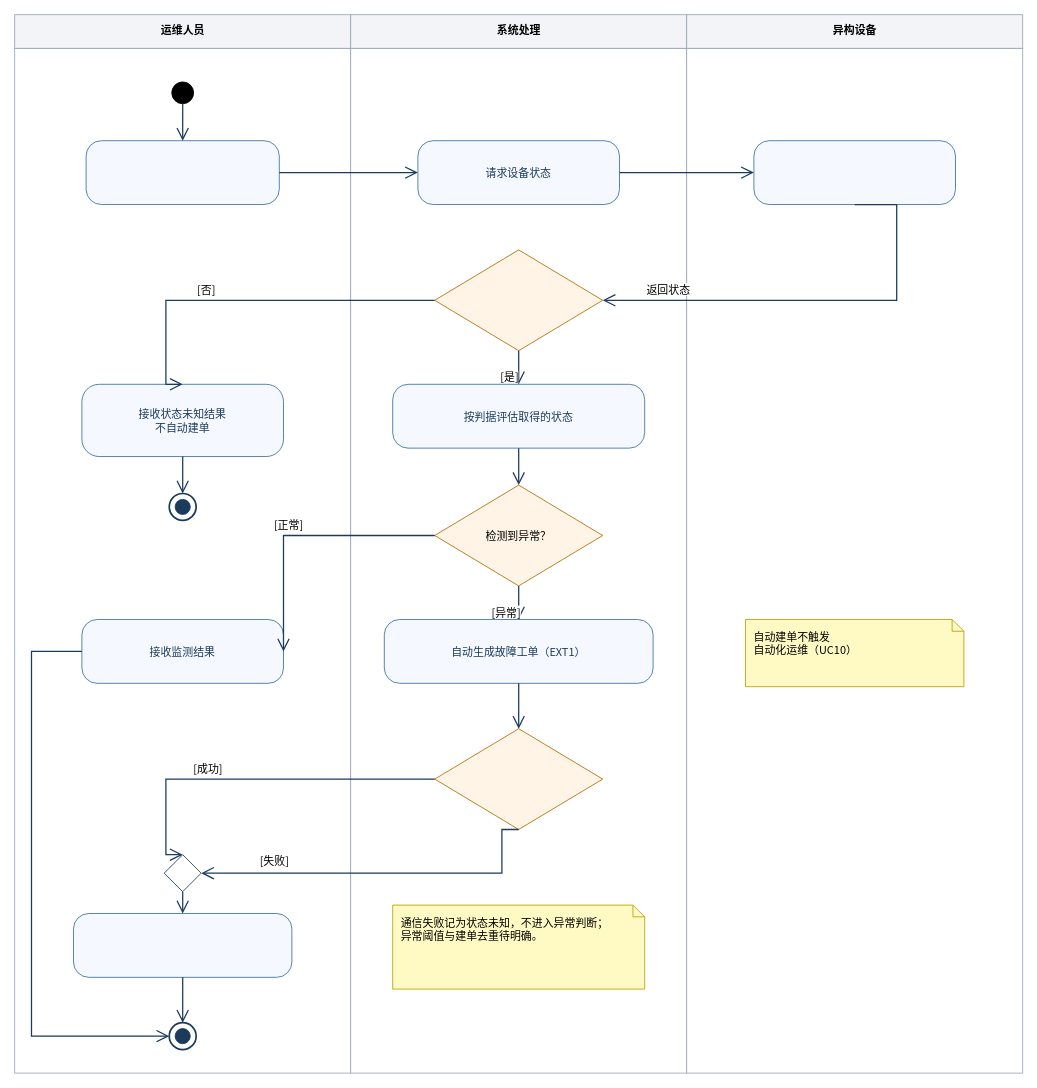
Some shapes in this 1037 by 1088 pixel diagram are drawn without their labels. Here are the shapes that lost their labels. From the top down, the centre of each, then its label:
At [182,172]: "参与状态监测".
At [854,172]: "提供状态信息".
At [518,300]: "取得状态？".
At [518,779]: "建单保存成功？".
At [182,945]: "接收监测与建单结果".
